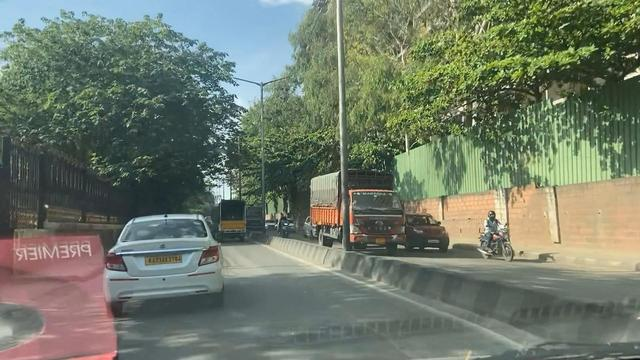HMV: (305, 169, 410, 254)
